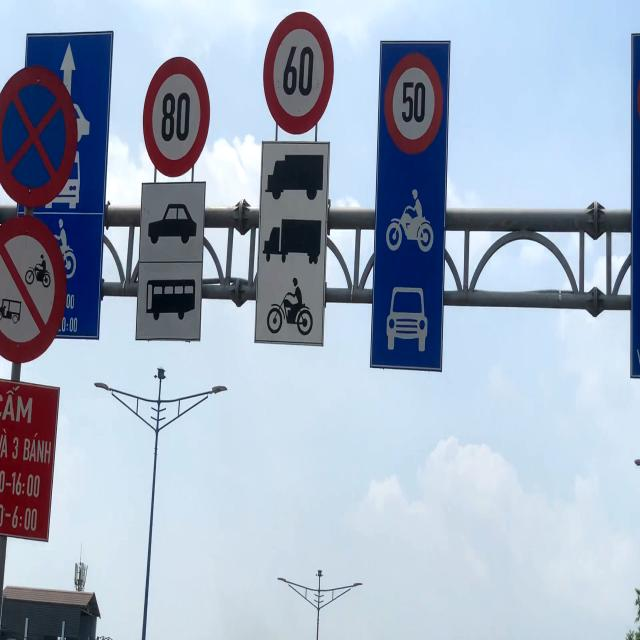P.127: (263, 5, 341, 137), (140, 49, 209, 178), (381, 47, 446, 159)
P.130: (0, 62, 80, 214)
